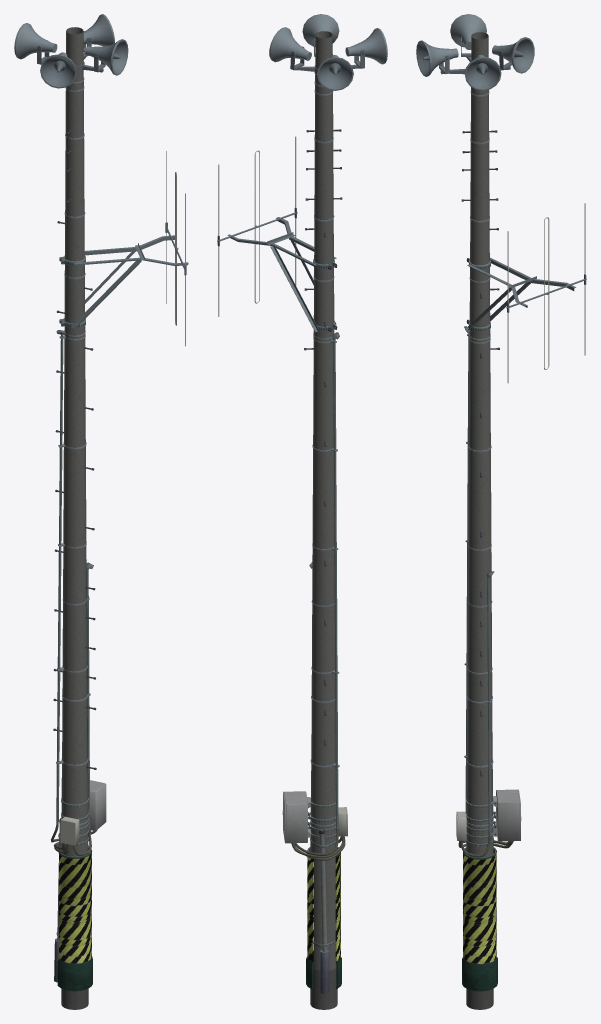
File: Preset_Pole_Broadcast.fbx
3 views of the same model, side by side, from view 1: azimuth 30°, elevation 25°; view 2: azimuth 150°, elevation 25°; view 3: azimuth 330°, elevation 25° (orthographic).
Visible parts, largest first — view 1: Concrete, Parts, Reflactor; view 2: Concrete, Parts, Reflactor; view 3: Concrete, Parts, Reflactor.
Boxes of the visible parts, left/top/right/bottom form: Concrete: left=57, top=27, right=92, bottom=1009; Parts: left=14, top=14, right=188, bottom=982; Reflactor: left=59, top=852, right=91, bottom=963; Concrete: left=306, top=31, right=341, bottom=1009; Parts: left=217, top=14, right=387, bottom=993; Reflactor: left=307, top=852, right=340, bottom=961; Concrete: left=462, top=32, right=497, bottom=1009; Parts: left=416, top=14, right=586, bottom=857; Reflactor: left=463, top=853, right=496, bottom=963.
Bounding box in the file's own units: 235 × 183 × 1468.
Materials: 3 (3 with a texture image).
